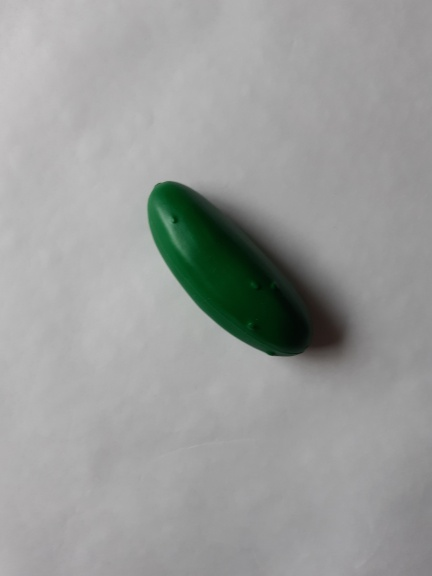cucumber: (140, 175, 325, 366)
